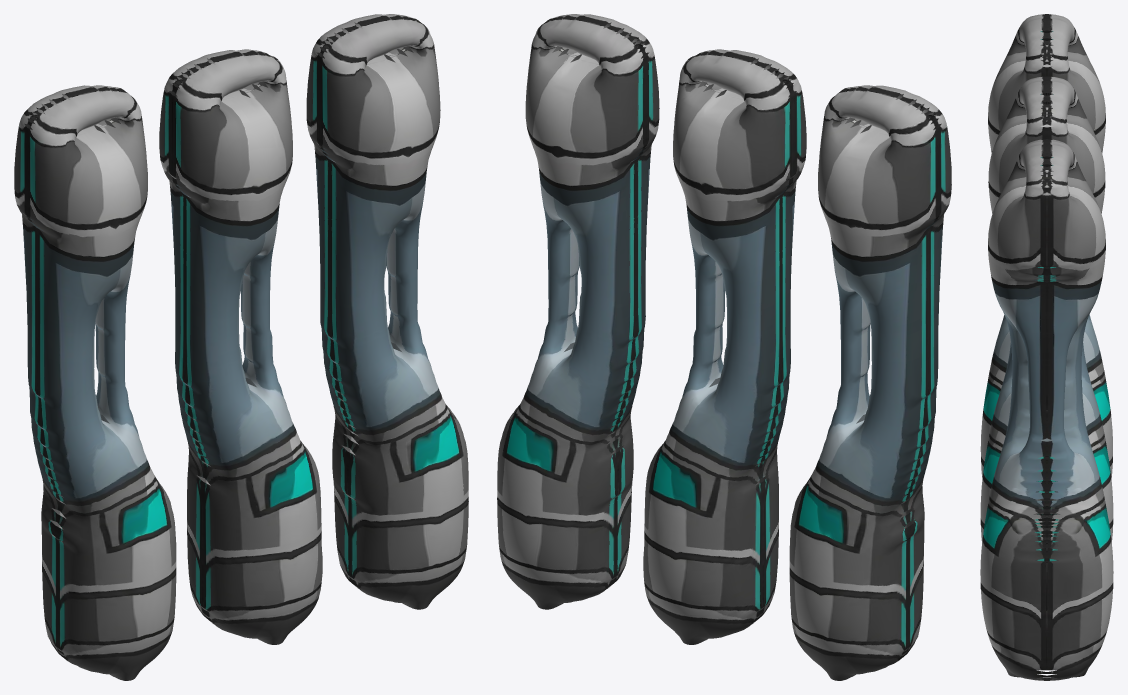
The model's file is feed_pipe_bank.glb.
The picture shows the model from 3 angles, left to right: view 1: azimuth 30°, elevation 25°; view 2: azimuth 150°, elevation 25°; view 3: azimuth 270°, elevation 25°; orthographic projection. The views are drawn at different scales.
Visible parts, largest first — view 1: feed_pipe_bank; view 2: feed_pipe_bank; view 3: feed_pipe_bank.
Part boxes in pixels (left/top/right/bottom): feed_pipe_bank: left=14, top=14, right=468, bottom=680; feed_pipe_bank: left=497, top=14, right=951, bottom=680; feed_pipe_bank: left=980, top=14, right=1113, bottom=680.
Bounding box in the file's own units: 0.9857 × 1.28 × 0.3018.
1 material, 1 textured.
